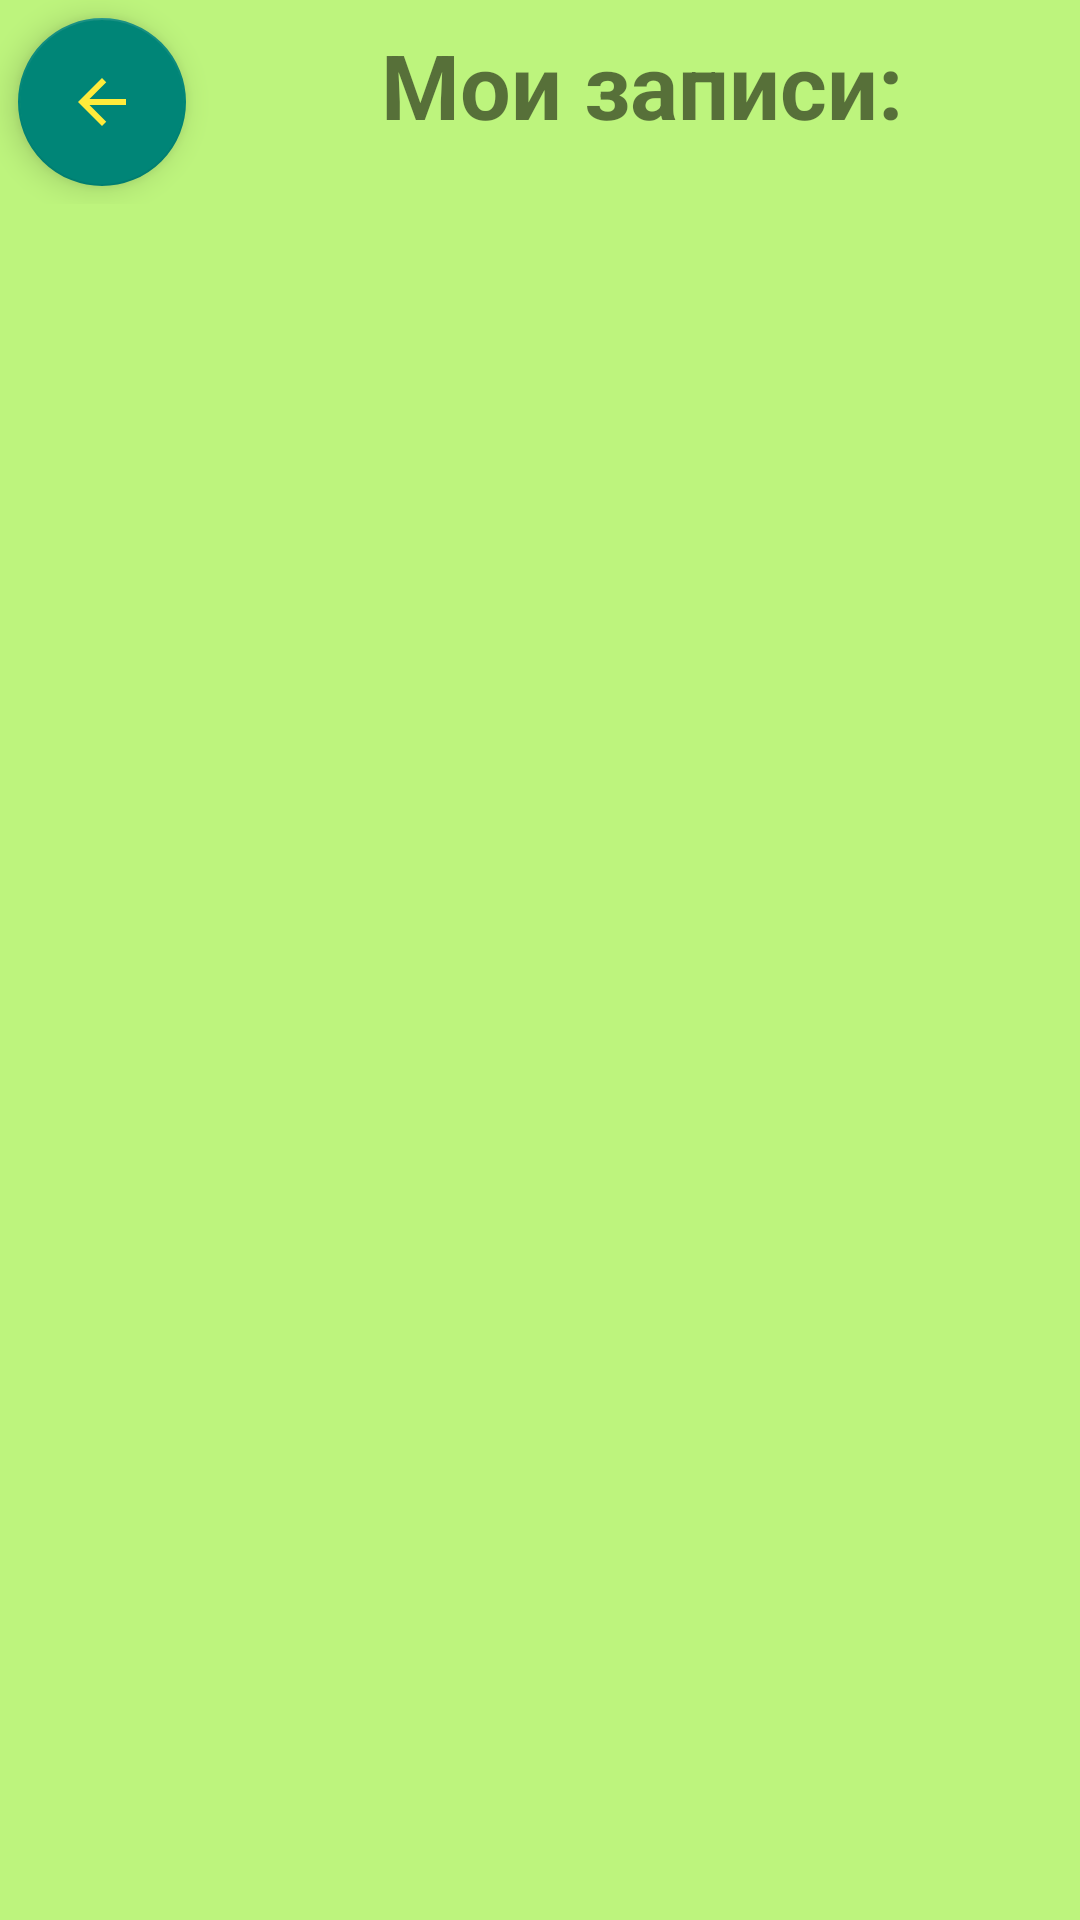

Named icons in this screenshot (1080px x 1920px) and their bounding boxes, (x1, y1, x2, y2):
arrow back: (18, 18, 186, 186)
